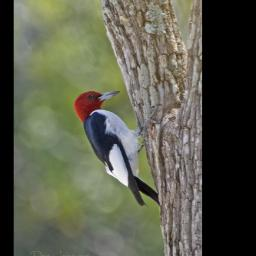Woodpecker: (71, 86, 165, 209)
